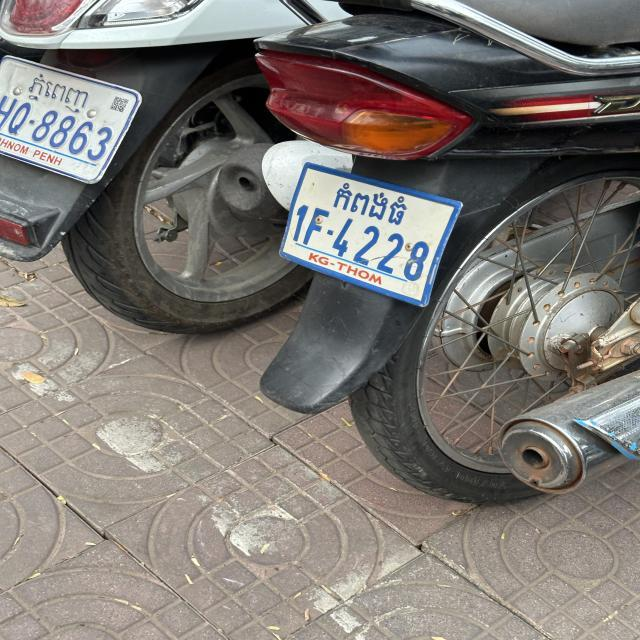Kampong_Thom: (333, 182, 408, 224)
